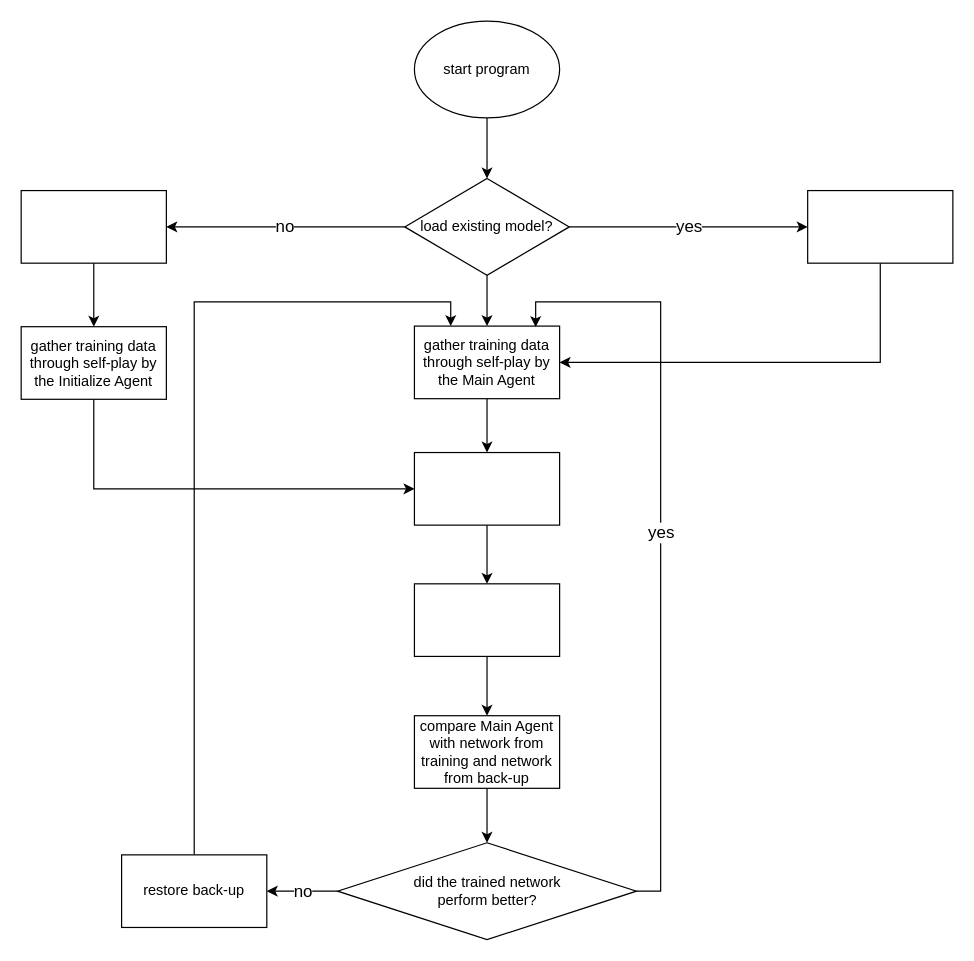
Image size: 974x961. Some labels were removed from this diagram. The centre of each missing label's shape, as x and y in pixels:
"back-up network" belongs at point 486,488.
"create new network with random weights" belongs at point 93,226.
"load saved network" belongs at point 879,226.
"train network with data from self-play" belongs at point 486,619.
